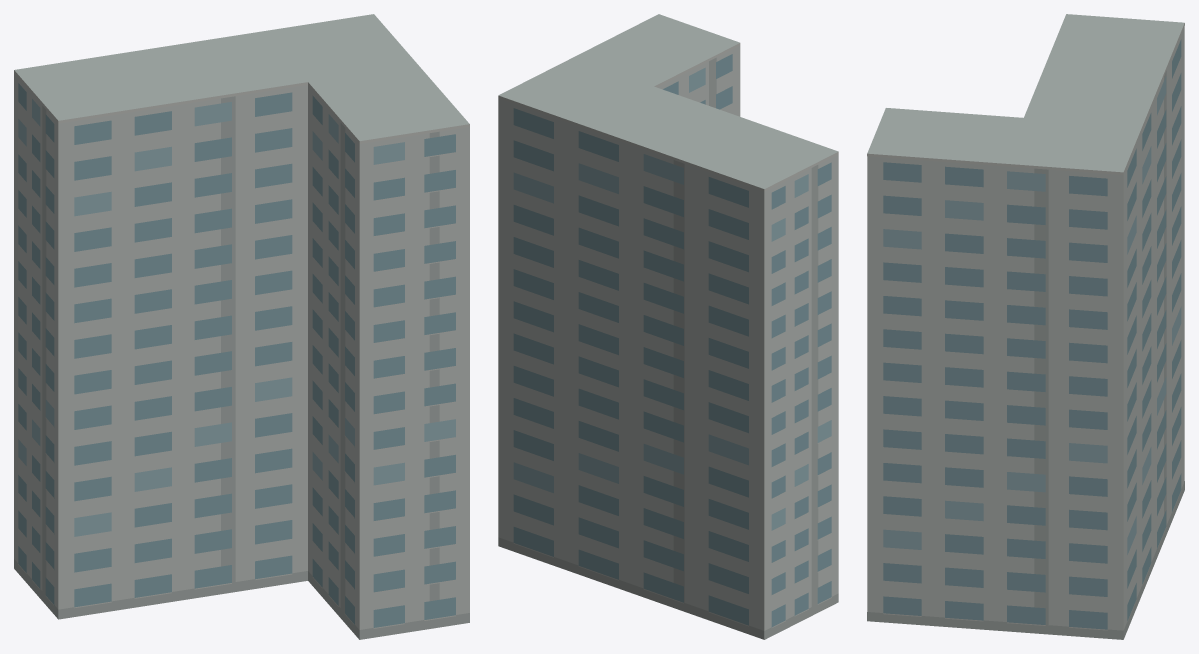
Rendered from residential-200b9213-f0f3-413f-8df6-66a43b164583.glb.
The picture shows the model from 3 angles, left to right: view 1: azimuth 30°, elevation 25°; view 2: azimuth 150°, elevation 25°; view 3: azimuth 270°, elevation 25°; orthographic projection. The views are drawn at different scales.
Visible parts, largest first — view 1: residential-200b9213-f0f3-413f-8df6-66a43b164583.tmp; view 2: residential-200b9213-f0f3-413f-8df6-66a43b164583.tmp; view 3: residential-200b9213-f0f3-413f-8df6-66a43b164583.tmp.
Part boxes in pixels (x1=…): residential-200b9213-f0f3-413f-8df6-66a43b164583.tmp: x1=14, y1=14, x2=469, y2=639; residential-200b9213-f0f3-413f-8df6-66a43b164583.tmp: x1=498, y1=14, x2=838, y2=639; residential-200b9213-f0f3-413f-8df6-66a43b164583.tmp: x1=867, y1=14, x2=1184, y2=639.
Bounding box in the file's own units: 30.52 × 42 × 25.87.
